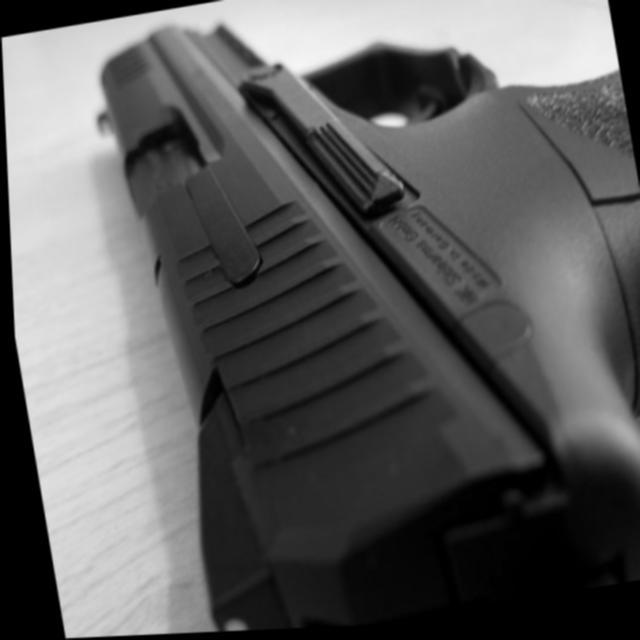weapon: (78, 0, 640, 637)
